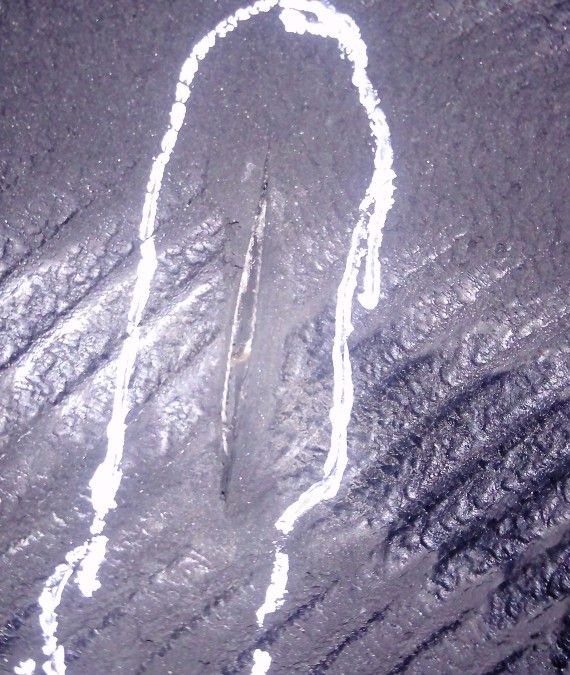cut: (213, 135, 272, 503)
